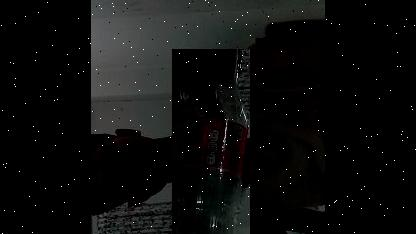Plastic Bottle: (172, 48, 250, 234)
